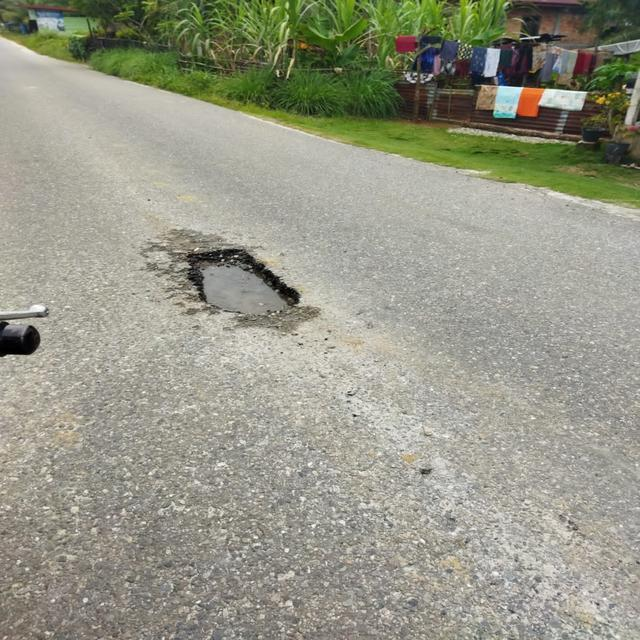Lubang: (185, 252, 290, 319)
